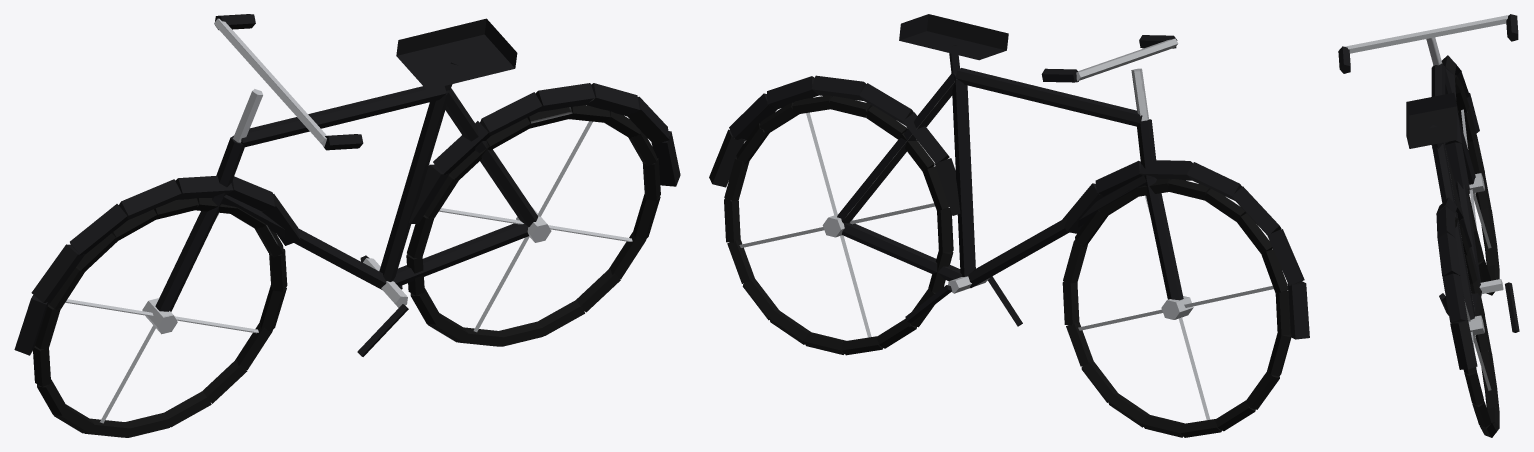
File: kolo_37c6e2ff.glb
The picture shows the model from 3 angles, left to right: view 1: azimuth 30°, elevation 25°; view 2: azimuth 150°, elevation 25°; view 3: azimuth 270°, elevation 25°; orthographic projection. The views are drawn at different scales.
Parts seen in each view (by area): view 1: dum; view 2: dum; view 3: dum.
Boxes of the visible parts, x1,y1,x2,y2 form: dum: [14, 14, 680, 437]; dum: [709, 14, 1309, 437]; dum: [1338, 14, 1519, 437].
Size of the model in its own units: 1.95 by 1.09 by 0.5905.
Materials: 1 (1 with a texture image).
